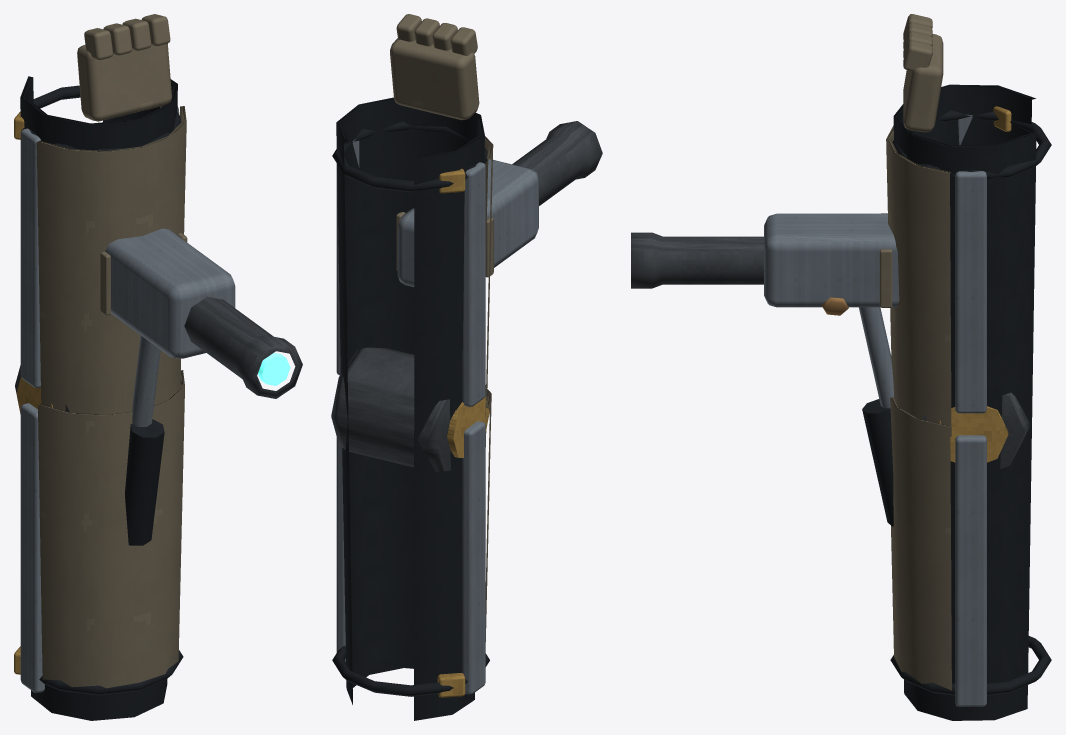
File: exo-arm.lod2.glb
3 views of the same model, side by side, from view 1: azimuth 30°, elevation 25°; view 2: azimuth 150°, elevation 25°; view 3: azimuth 270°, elevation 25° (orthographic). The views are drawn at different scales.
Parts seen in each view (by area): view 1: ceramic / ceramic composite panel, alloy / machined anodized alloy, polymer / stippled polymer, darksteel / oil-blackened fittings, brass / polished brass furniture, energy / emissive field channel; view 2: polymer / stippled polymer, alloy / machined anodized alloy, darksteel / oil-blackened fittings, ceramic / ceramic composite panel, brass / polished brass furniture; view 3: polymer / stippled polymer, ceramic / ceramic composite panel, alloy / machined anodized alloy, darksteel / oil-blackened fittings, brass / polished brass furniture.
Boxes of the visible parts, <box> form: ceramic / ceramic composite panel: <box>36,14,187,688</box>; alloy / machined anodized alloy: <box>20,106,235,692</box>; polymer / stippled polymer: <box>20,76,183,720</box>; darksteel / oil-blackened fittings: <box>15,296,302,414</box>; brass / polished brass furniture: <box>14,111,52,674</box>; energy / emissive field channel: <box>258,352,290,385</box>; polymer / stippled polymer: <box>332,97,489,720</box>; alloy / machined anodized alloy: <box>336,138,538,694</box>; darksteel / oil-blackened fittings: <box>331,121,602,472</box>; ceramic / ceramic composite panel: <box>390,14,493,641</box>; brass / polished brass furniture: <box>437,168,489,697</box>; polymer / stippled polymer: <box>862,84,1051,720</box>; ceramic / ceramic composite panel: <box>879,14,951,690</box>; alloy / machined anodized alloy: <box>764,114,986,706</box>; darksteel / oil-blackened fittings: <box>631,232,1029,468</box>; brass / polished brass furniture: <box>939,106,1011,462</box>.
Bounding box in the file's own units: 0.155 × 0.6896 × 0.396.
7 materials, 5 textured.
